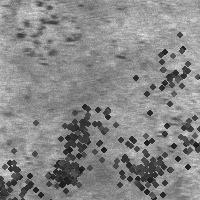rolled-in_scale: (117, 13, 200, 121), (41, 92, 121, 172), (102, 124, 186, 200), (0, 130, 62, 200), (144, 68, 193, 155), (13, 1, 78, 64), (159, 99, 200, 171), (42, 148, 86, 192)
